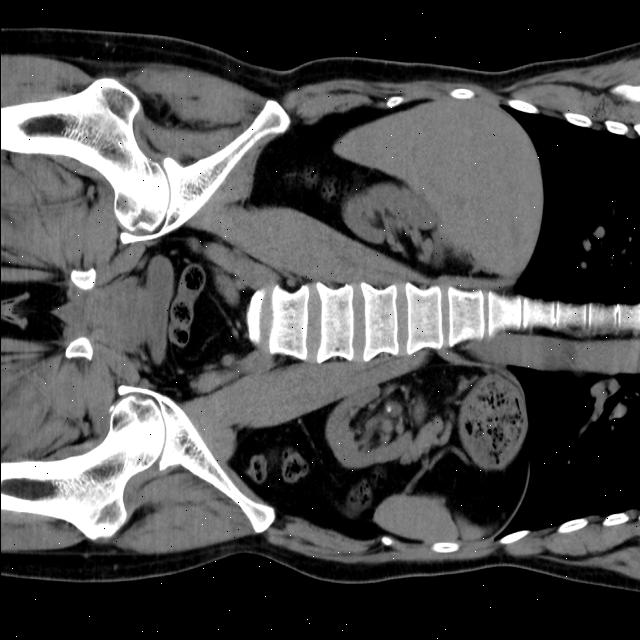kidneystone: (382, 399, 399, 414)
